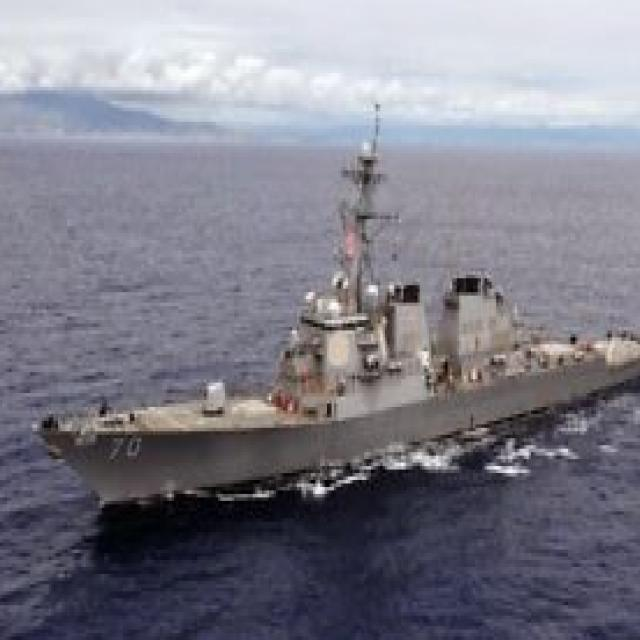navalvessels: (37, 87, 640, 508)
